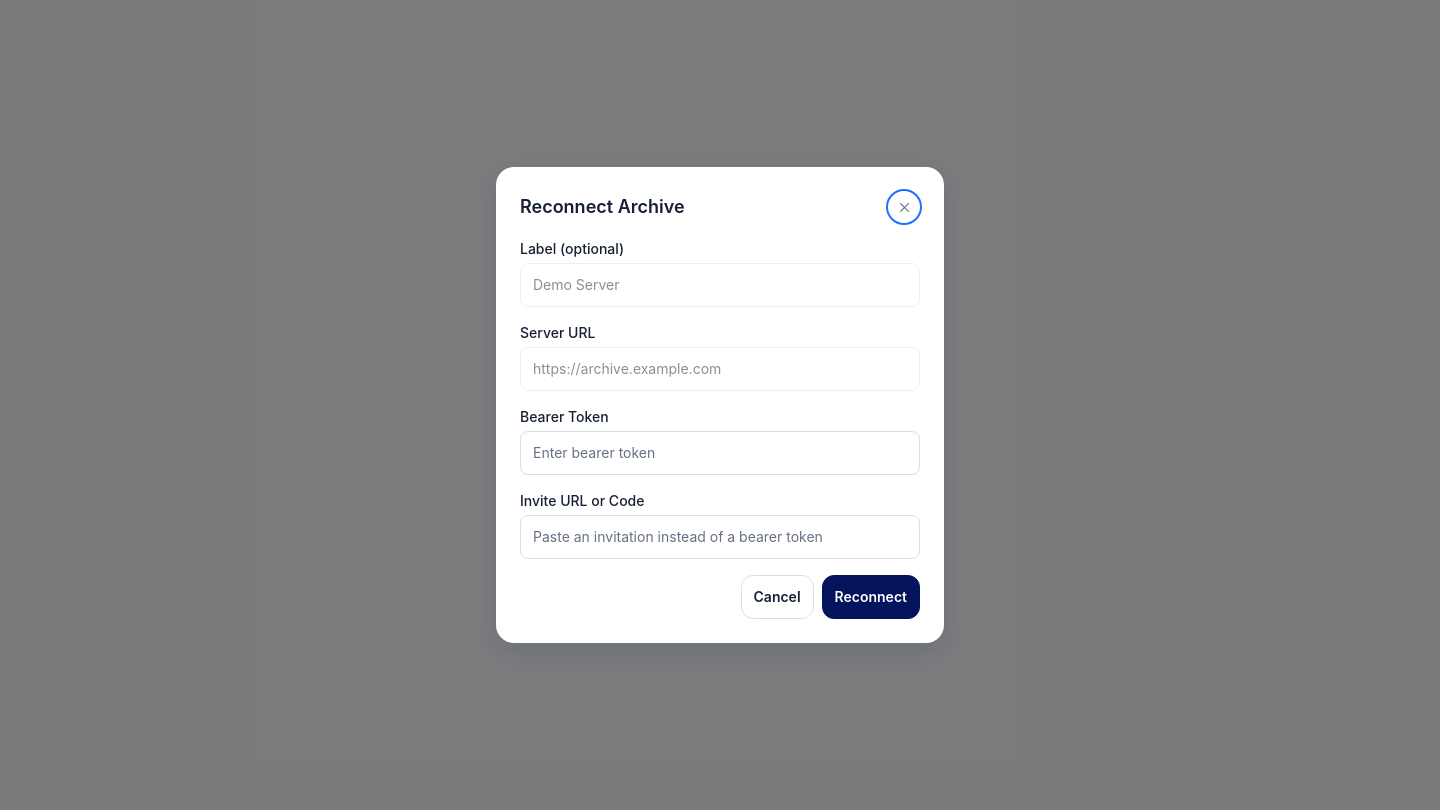
Test: EditArchiveServerDialog › requires a fresh credential in reconnect mode for a locked archive
This screenshot has width=1440, height=810.
Click the button "Reconnect". click: (871, 597)
box: [822,575,920,619]
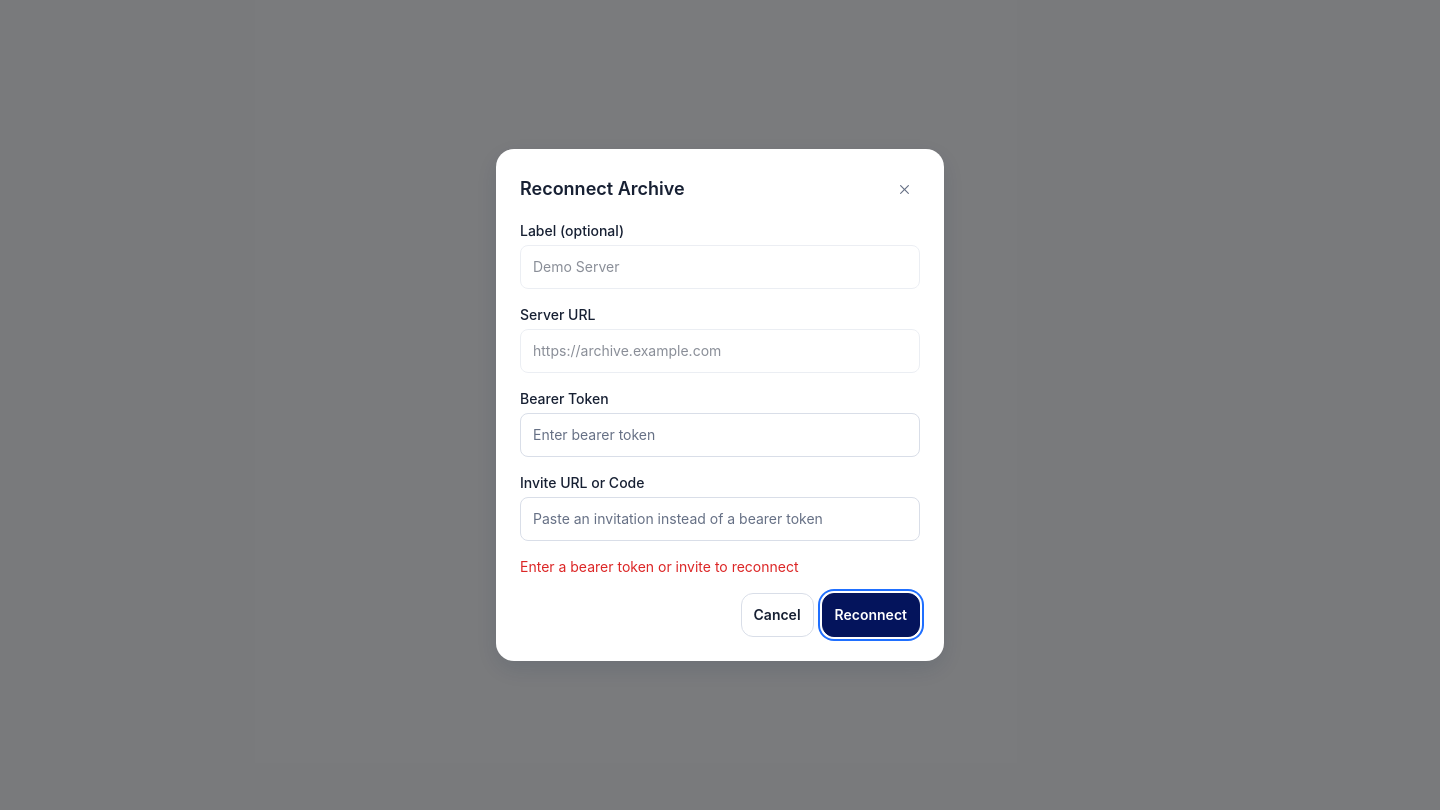
Expected: the text "Enter a bearer token or invite to reconnect" is shown, [520,558,798,575]
